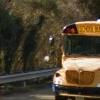Bus: (52, 17, 100, 100)
